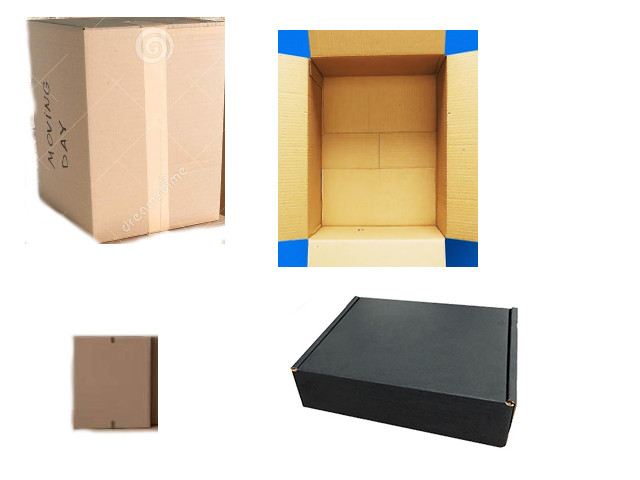cardboard: (33, 16, 217, 238), (294, 45, 461, 255), (293, 297, 518, 447), (72, 336, 152, 430)
